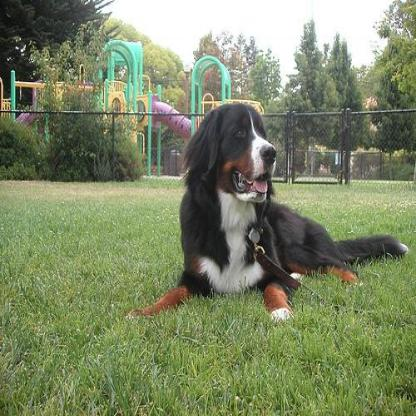Bernese_mountain_dog: (121, 99, 408, 323)
